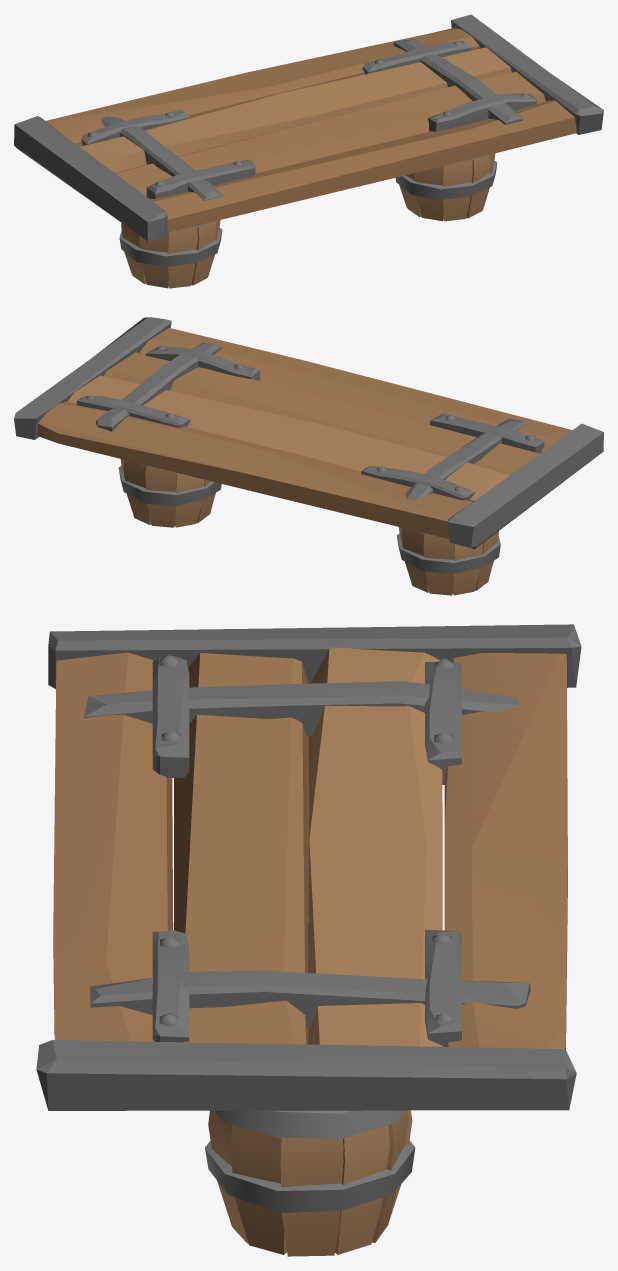
File: Table_C.fbx
The picture shows the model from 3 angles, top to bottom: view 1: azimuth 30°, elevation 25°; view 2: azimuth 150°, elevation 25°; view 3: azimuth 270°, elevation 25°; orthographic projection. The views are drawn at different scales.
Parts seen in each view (by area): view 1: Table_C; view 2: Table_C; view 3: Table_C.
Part boxes in pixels (x1,y1,x2,y2): Table_C: [14, 14, 603, 288]; Table_C: [14, 317, 603, 595]; Table_C: [36, 624, 581, 1256].
Bounding box in the file's own units: 267 × 72.01 × 137.
